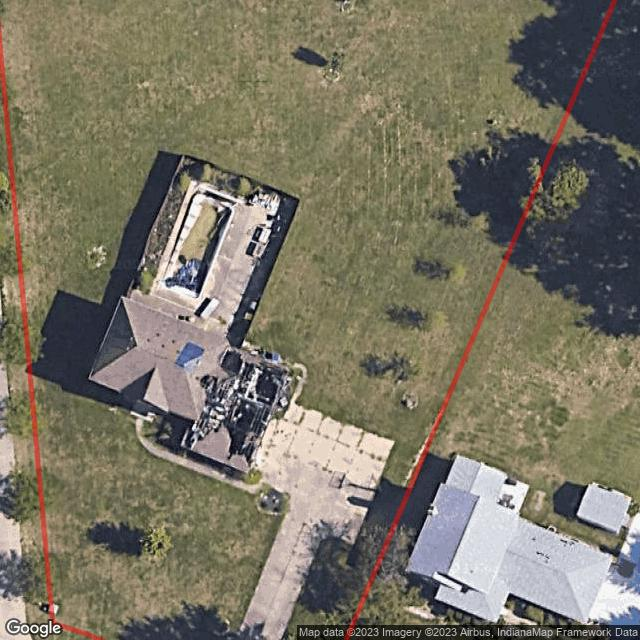Driveway: (235, 401, 394, 640)
House: (90, 298, 291, 476)
Other: (126, 179, 300, 350), (240, 340, 282, 364), (259, 489, 282, 513)
Sidewalk: (136, 416, 267, 494), (288, 362, 307, 404)
